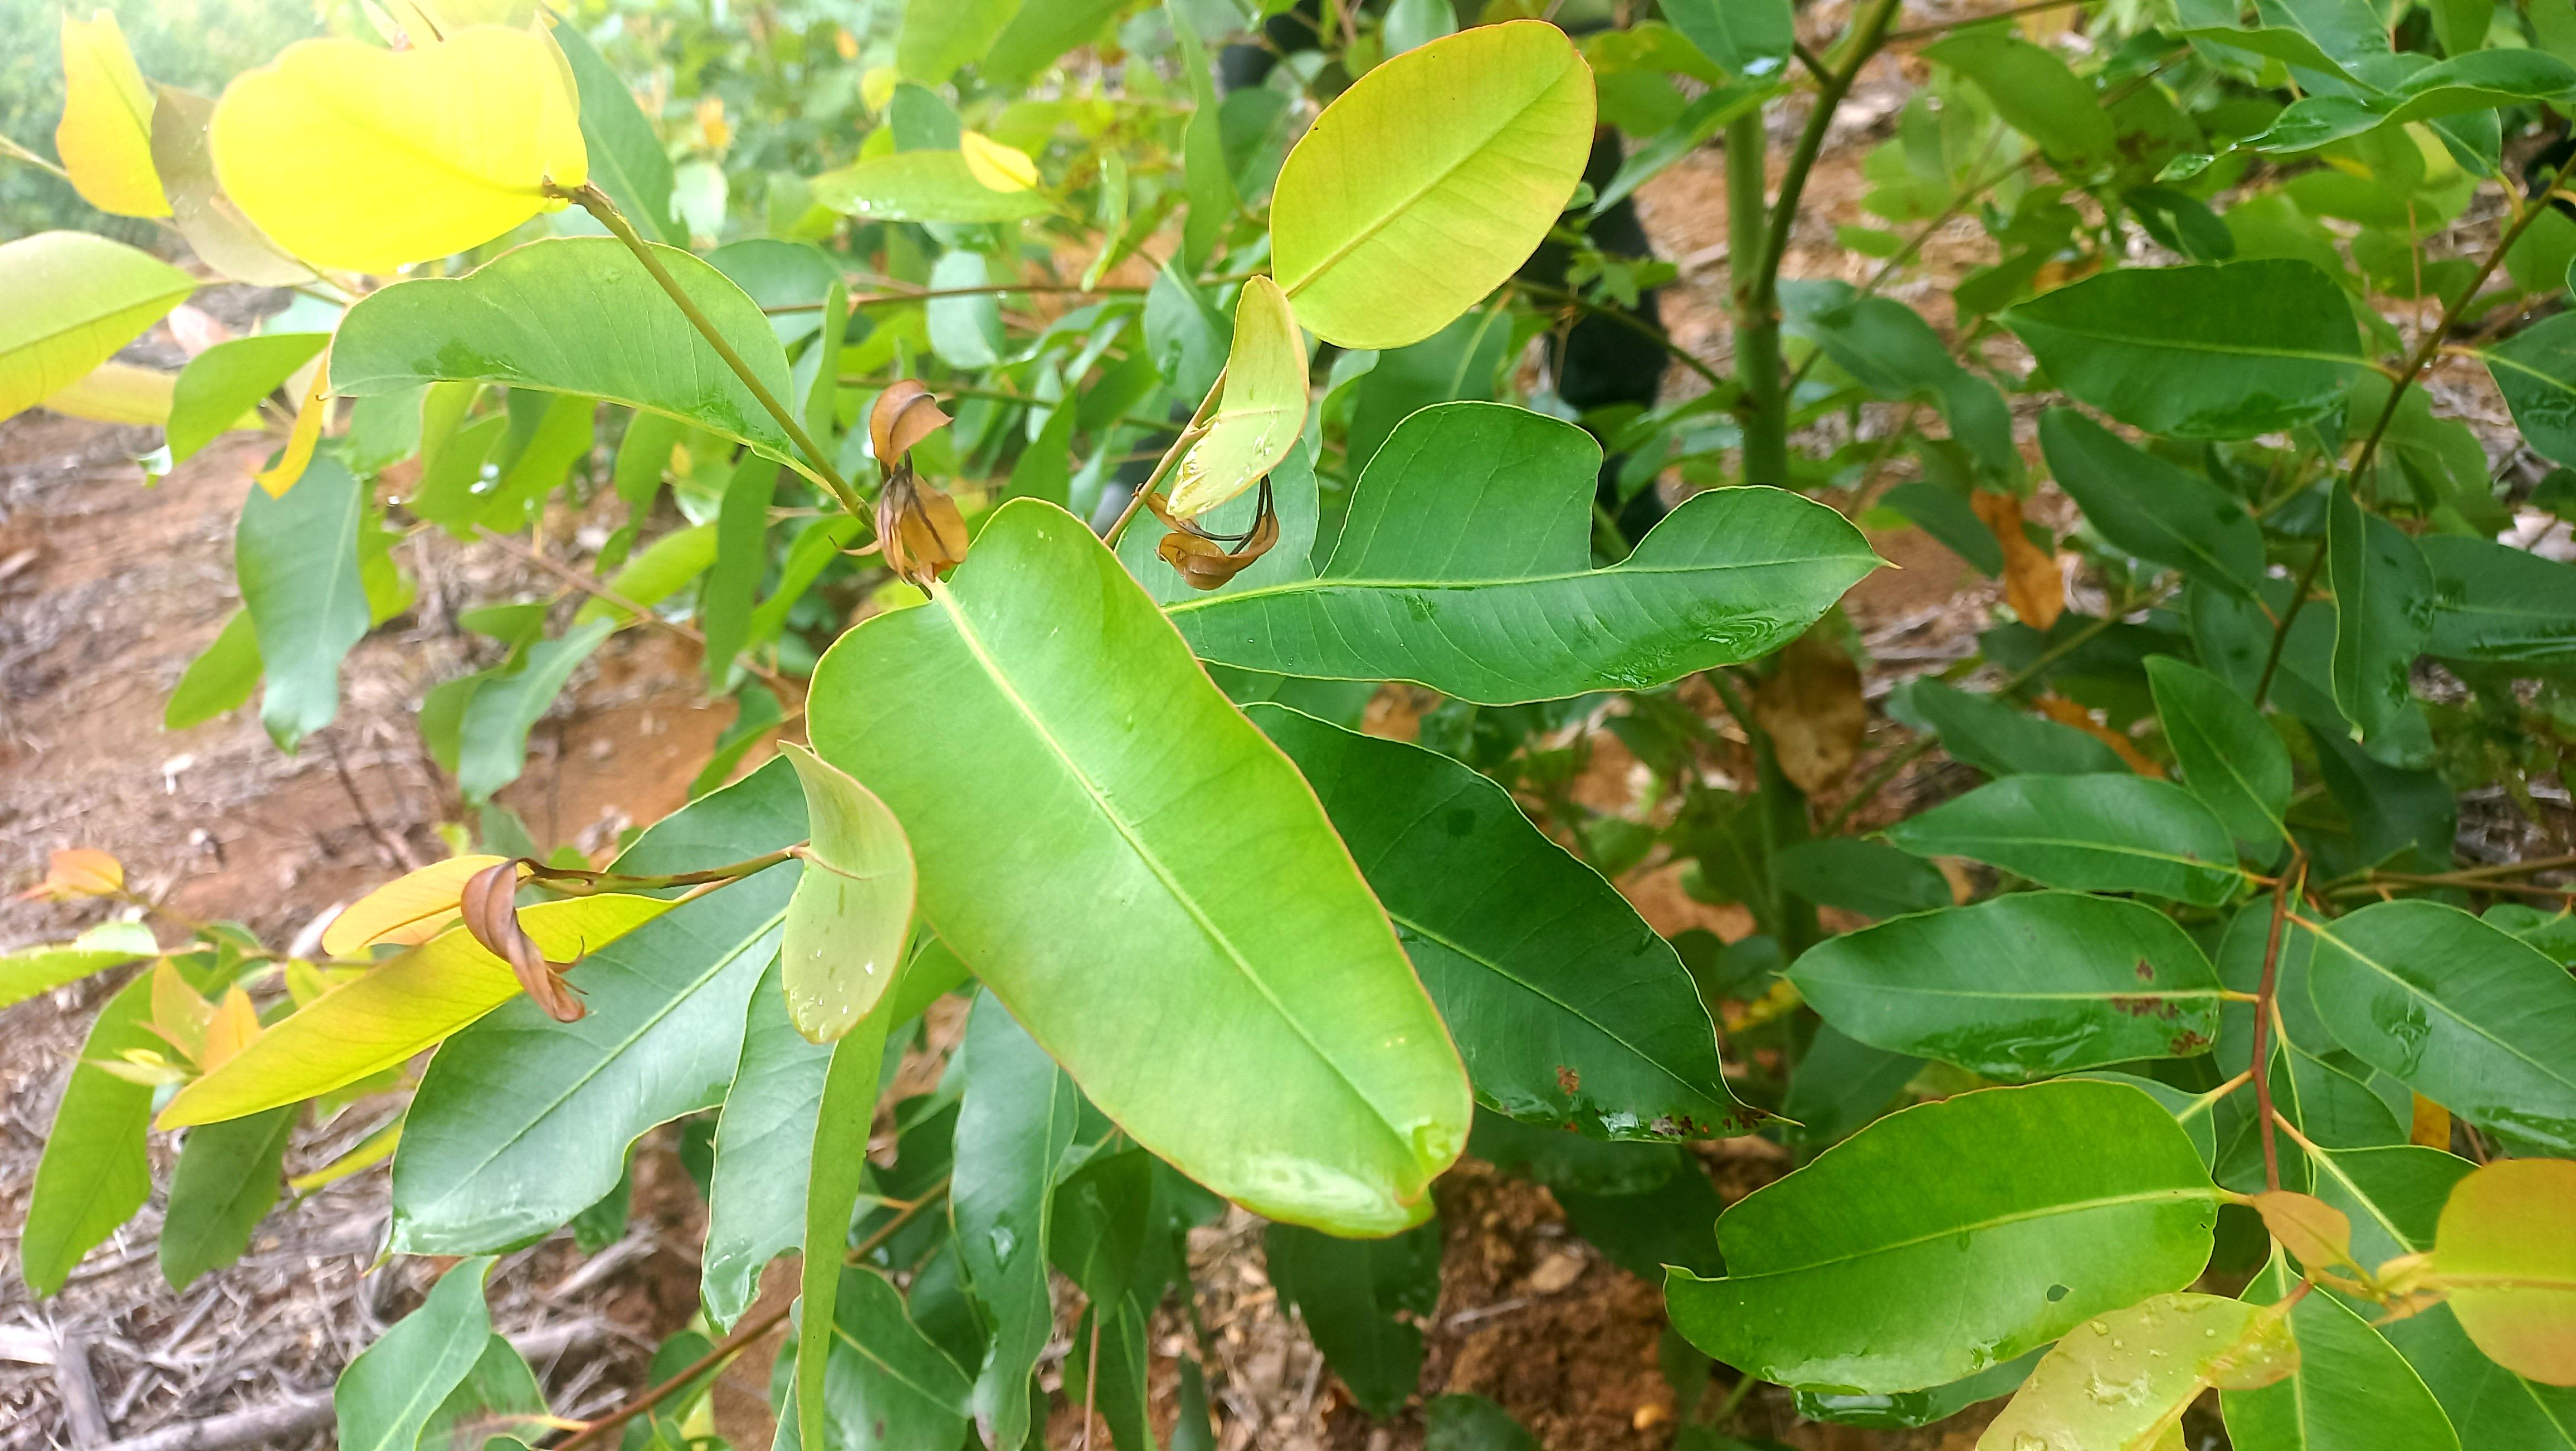Helopeltis-Withered Sprout: (449, 851, 596, 1026), (816, 481, 973, 610), (847, 373, 968, 476), (1152, 517, 1288, 607)
